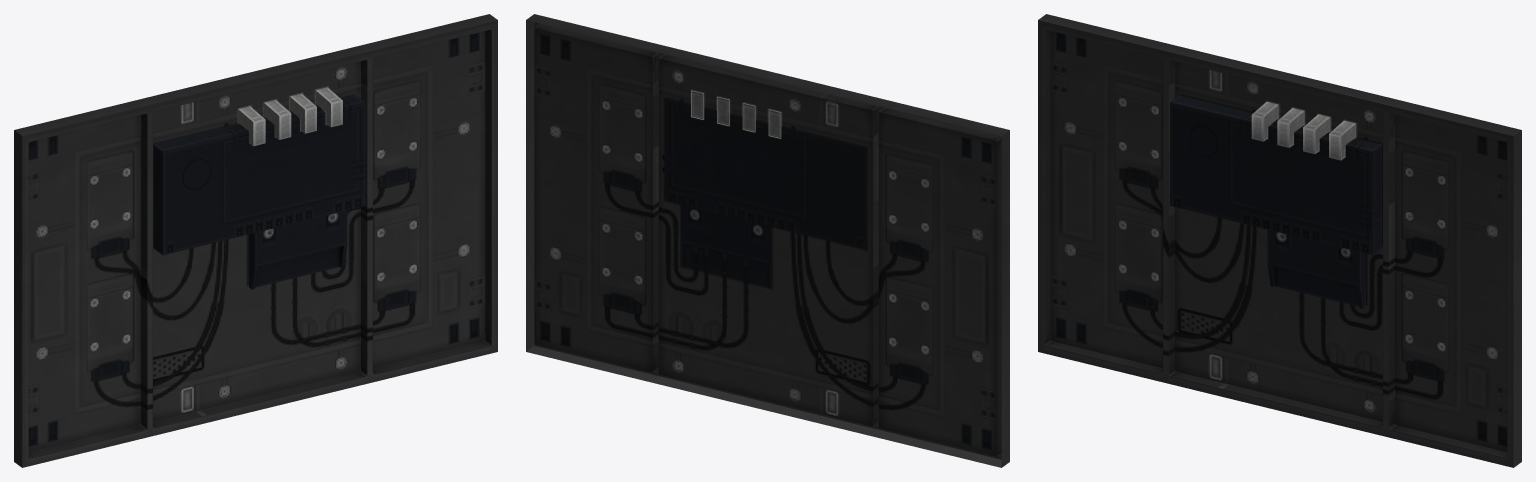
File: Panel_C_1x1,5_2_L3.FBX
The picture shows the model from 3 angles, left to right: view 1: azimuth 30°, elevation 25°; view 2: azimuth 150°, elevation 25°; view 3: azimuth 330°, elevation 25°; orthographic projection.
Parts seen in each view (by area): view 1: Panel_C_1x1,5_2_L3; view 2: Panel_C_1x1,5_2_L3; view 3: Panel_C_1x1,5_2_L3.
Part boxes in pixels (x1,y1,x2,y2): Panel_C_1x1,5_2_L3: (14,14,497,467); Panel_C_1x1,5_2_L3: (526,14,1009,467); Panel_C_1x1,5_2_L3: (1038,14,1521,467).
Bounding box in the file's own units: 150 × 100 × 9.35.
